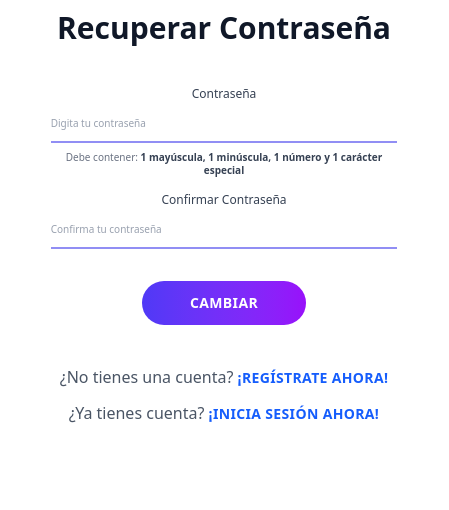
RestorePassword Component - pruebas unitarias › Validación del formulario › debe mostrar error cuando las contraseñas no coinciden
Type "Password123!" into the password field with placeholder "Digita tu contraseña" at (224, 124), box [51,106,397,143]
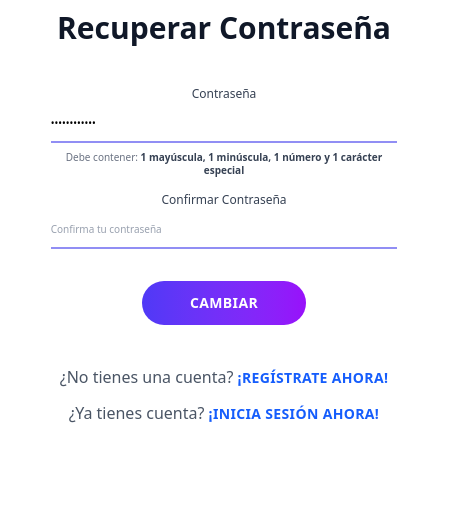
Type "Different123!" into the password field with placeholder "Confirma tu contraseña" at (224, 230), box [51,212,397,249]
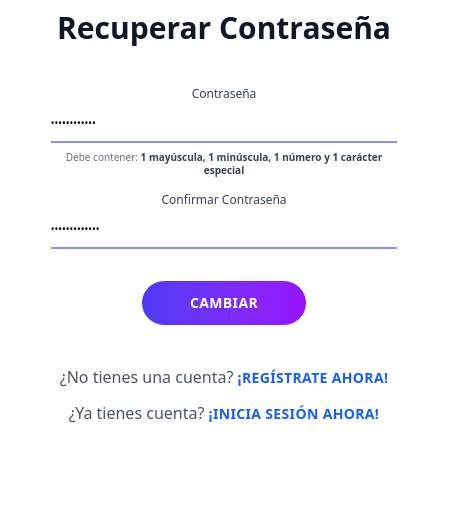
Click the button "CAMBIAR" at (224, 303), box [142,281,306,325]
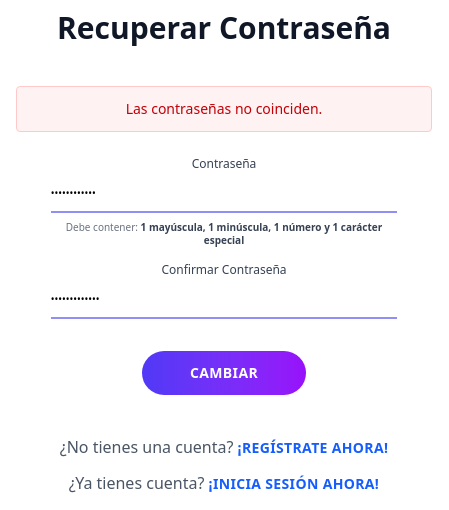
Now the text "Las contraseñas no coinciden." is shown, box [16,86,432,132]
